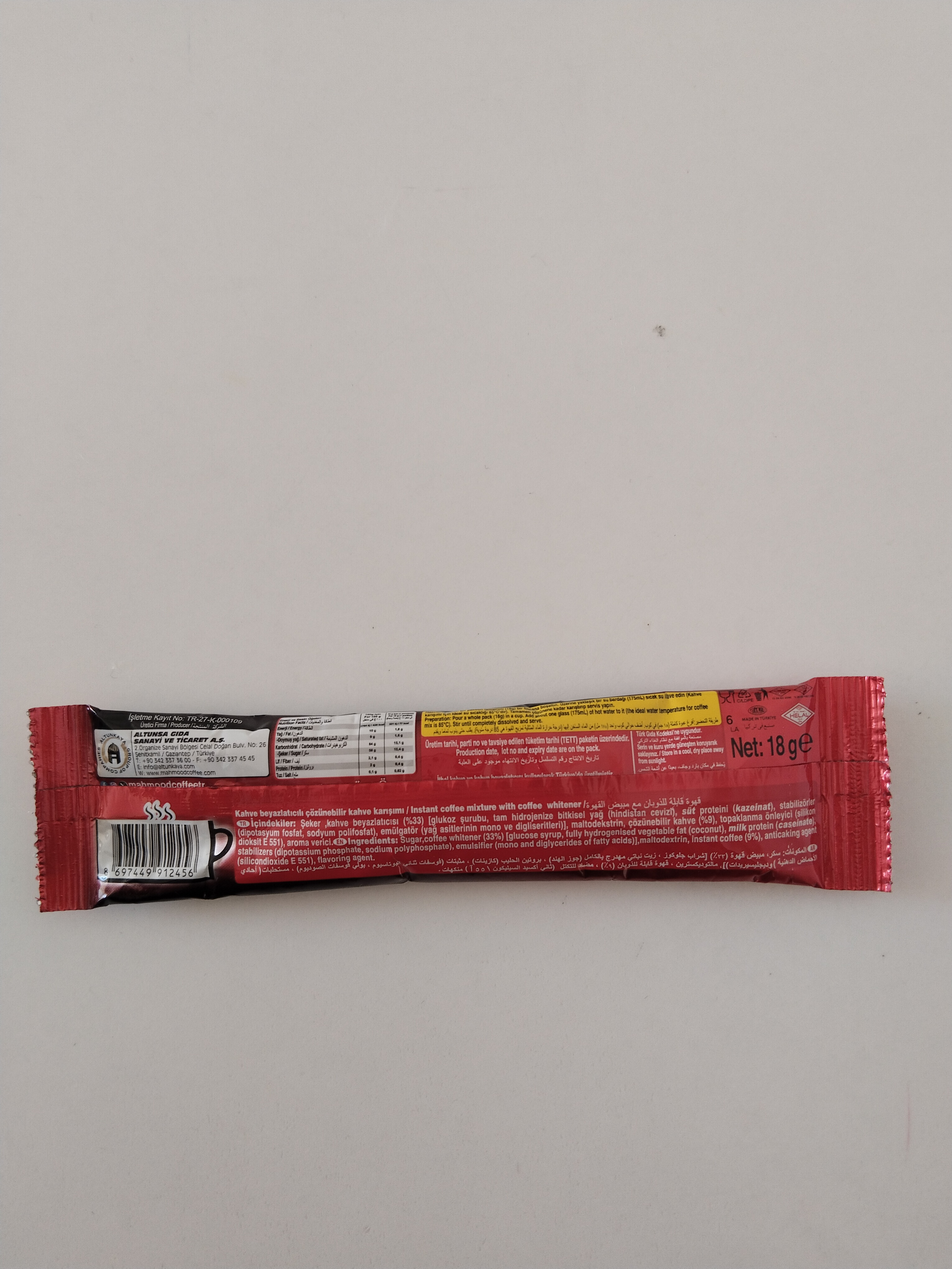mahmood_kahve: (31, 682, 907, 917)
